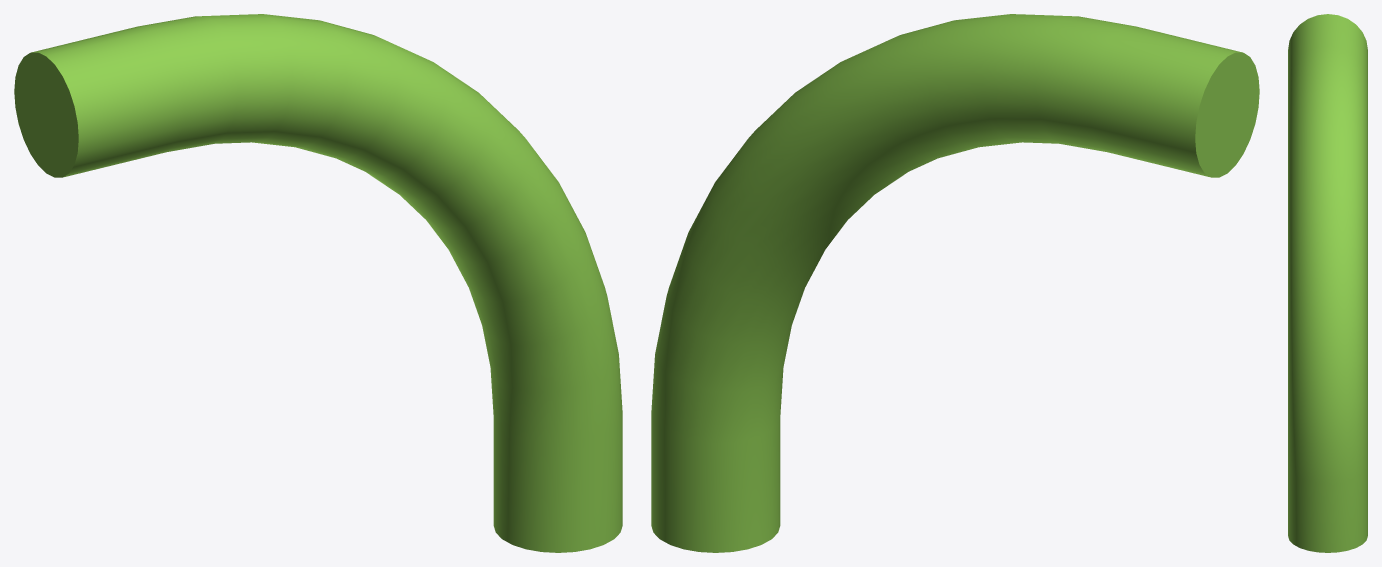
The picture shows the model from 3 angles, left to right: view 1: azimuth 30°, elevation 25°; view 2: azimuth 150°, elevation 25°; view 3: azimuth 270°, elevation 25°; orthographic projection. The views are drawn at different scales.
Parts seen in each view (by area): view 1: Group1; view 2: Group1; view 3: Group1.
Part boxes in pixels (box(x1,y1,x2,y2)): Group1: box(14, 14, 622, 552); Group1: box(651, 14, 1259, 552); Group1: box(1288, 14, 1367, 552).
Size of the model in its own units: 25.98 by 25.98 by 5.12.
